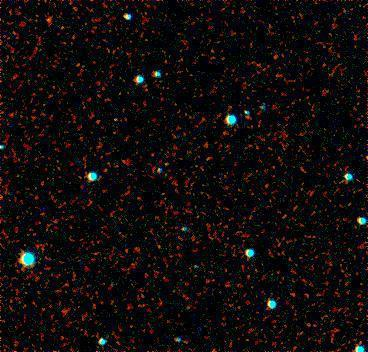star: (33, 5, 63, 35)
